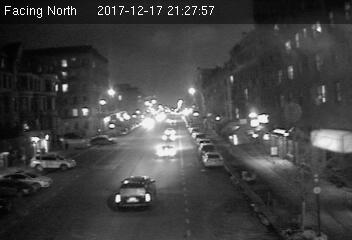car: (114, 175, 158, 212), (155, 144, 180, 160), (203, 152, 223, 166), (161, 133, 176, 142)
